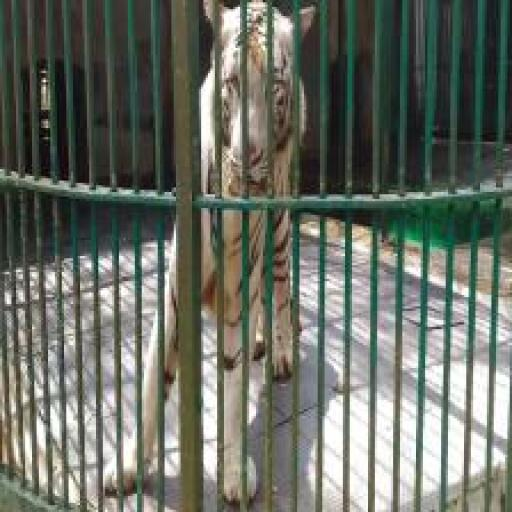Tiger: (100, 0, 316, 505)
